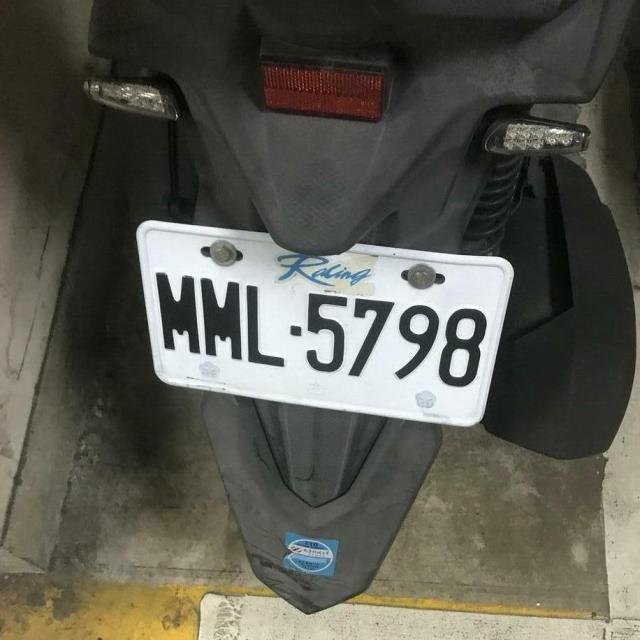W: (121, 218, 521, 430)
